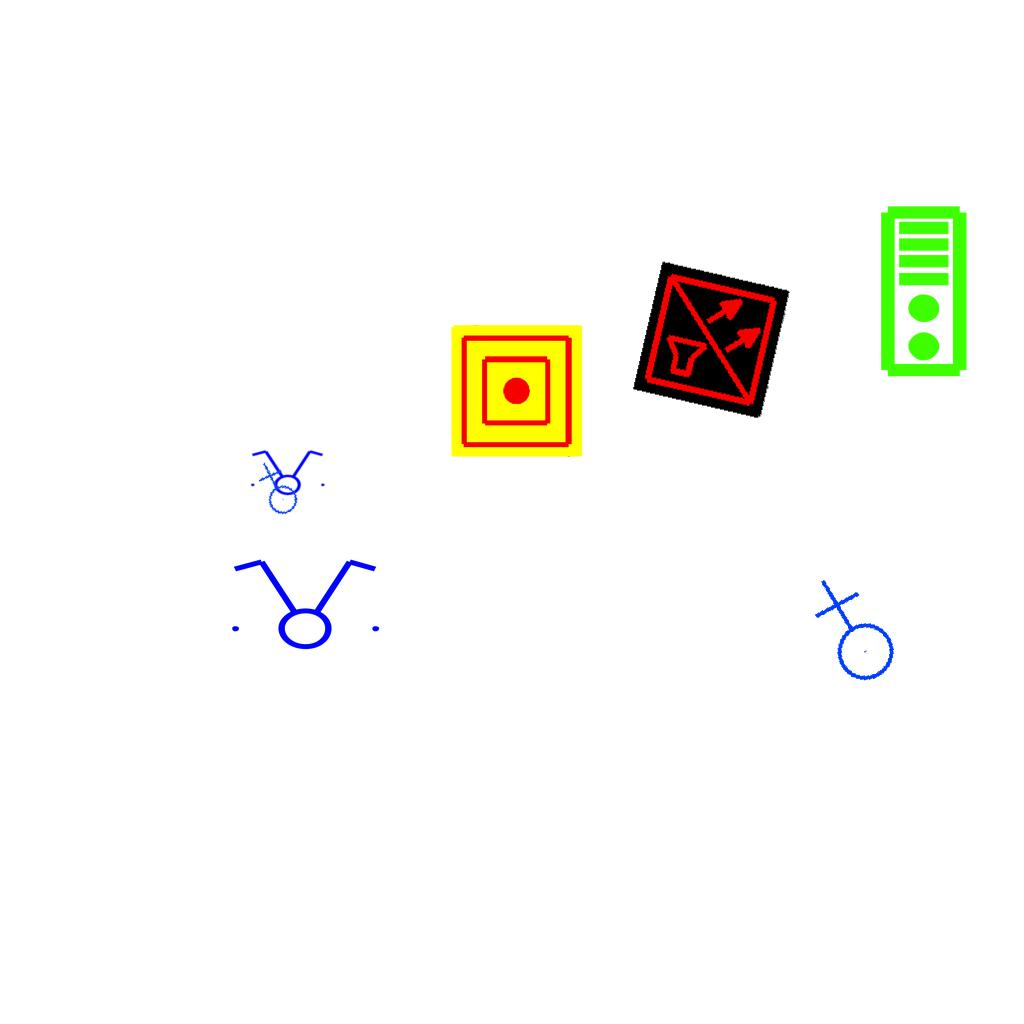Elektroanschluss_allgemein_230V_Geraeteanschlussdose_230V: (794, 577, 909, 695), (246, 461, 307, 522)
Gegensprechanlage_mit_Video: (878, 204, 973, 380)
NAM-Nichtautomatischer_Melder: (451, 325, 583, 457)
OKW_Multisensormelder_(Kombination_optischer_Rauch-Kahlenmonoxid_Waerme-Melder): (632, 260, 792, 420)
Serienschalter: (220, 555, 388, 651), (245, 448, 329, 496)
